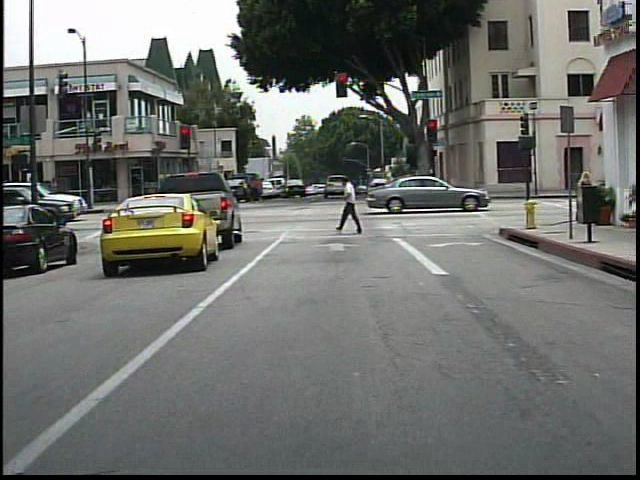person: (336, 174, 367, 235), (572, 168, 598, 222), (244, 170, 270, 210)
